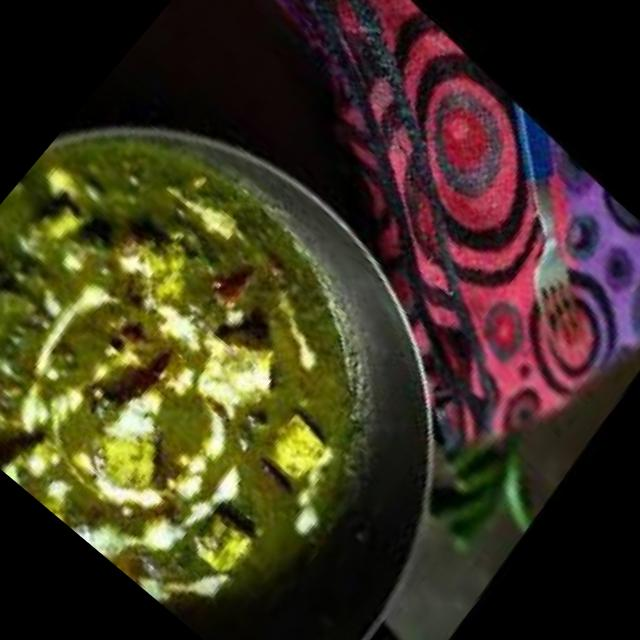palak_paneer: (0, 65, 477, 640)
